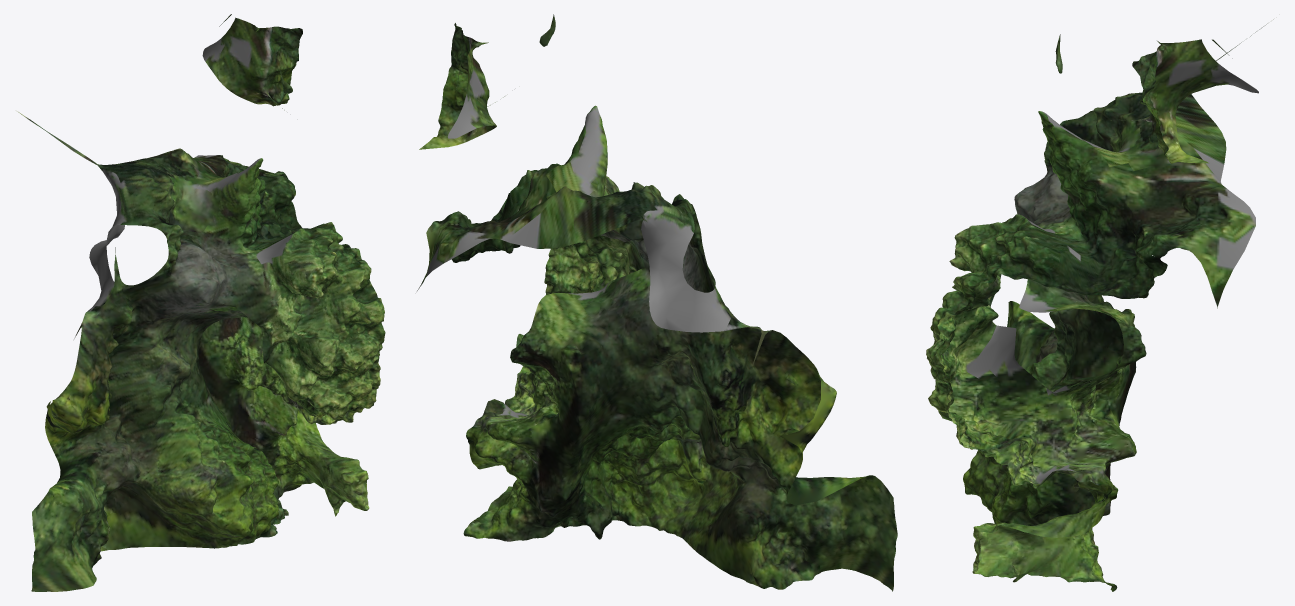
File: Tile_+000_+025.fbx
3 views of the same model, side by side, from view 1: azimuth 30°, elevation 25°; view 2: azimuth 150°, elevation 25°; view 3: azimuth 270°, elevation 25° (orthographic). The views are drawn at different scales.
Parts seen in each view (by area): view 1: DefaultName; view 2: DefaultName; view 3: DefaultName.
Boxes of the visible parts, <box> form: DefaultName: <box>17,14,385,591</box>; DefaultName: <box>417,14,897,591</box>; DefaultName: <box>926,19,1273,591</box>.
Size of the model in its own units: 17.07 by 22.54 by 13.67.
